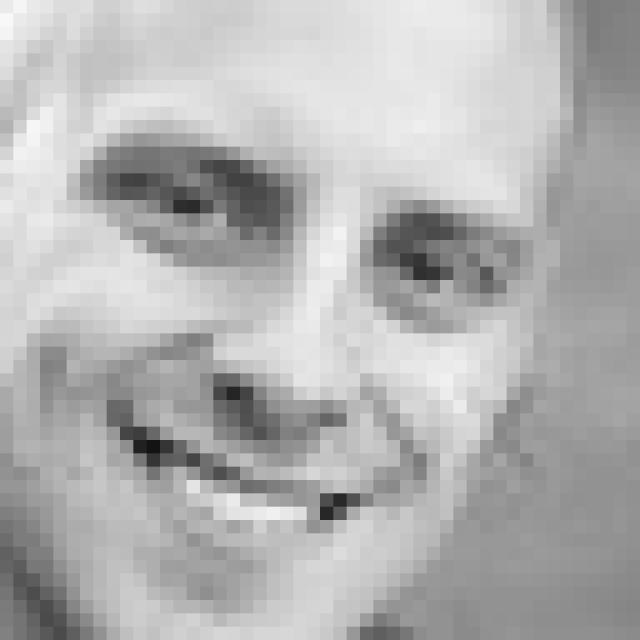happy: (73, 132, 521, 570)
